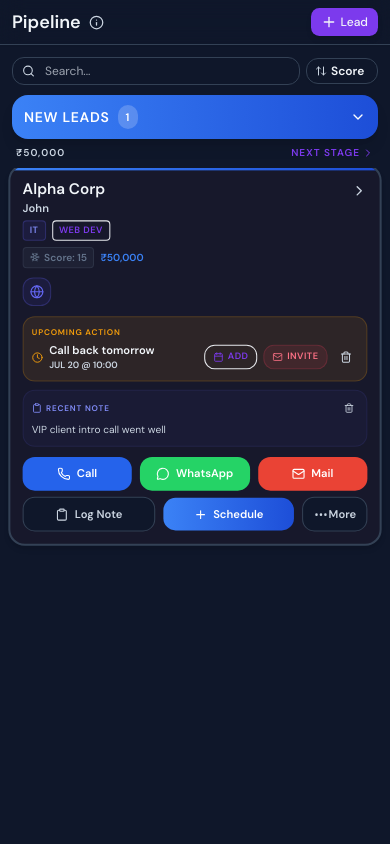
Test case: CRMPipeline (optimized mobile layout) › expands the card to reveal owner and stage movement controls
# Tap the card body (company name) to expand
Click the heading "Alpha Corp". click: (64, 189)
box: [23,178,105,199]
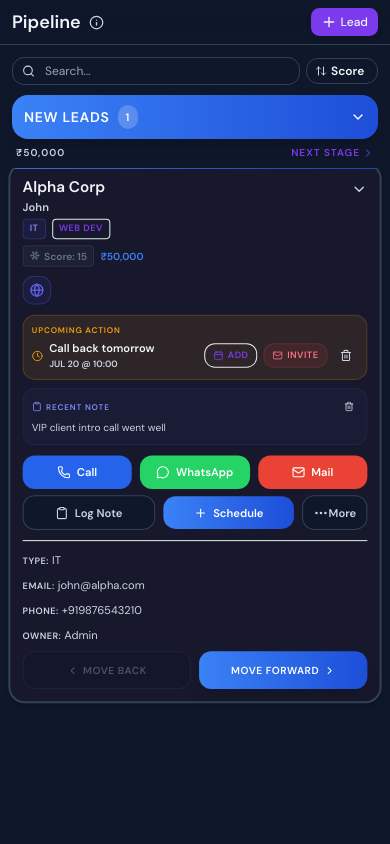
Expected: the text "Admin" is shown, [64,628,98,642]
Expected: the button "Move Back" is shown, [23,652,191,689]
Expected: the button "Move Forward" is shown, [199,652,367,689]
